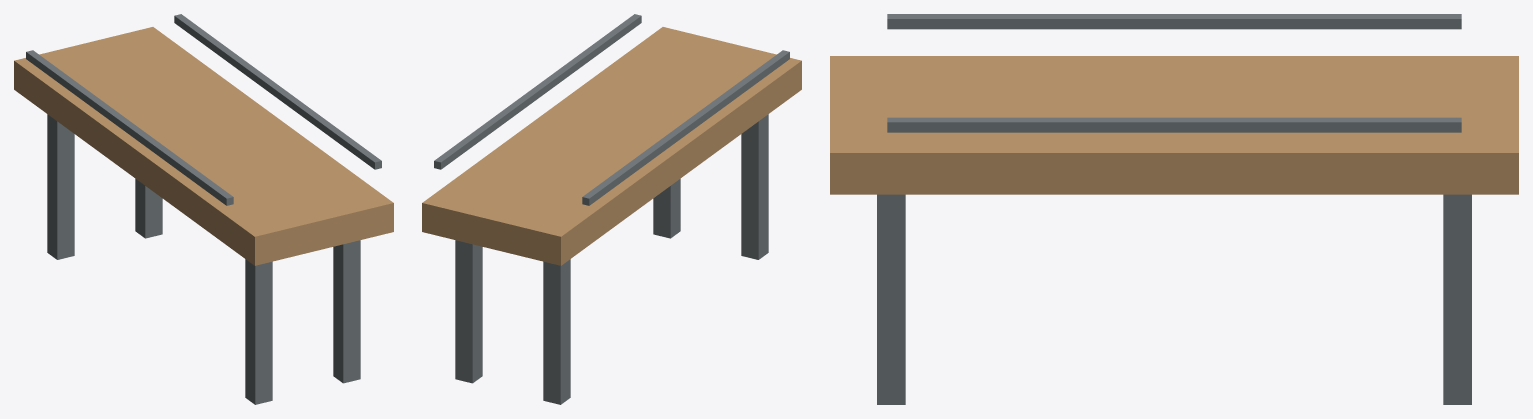
File: ambulance_stretcher.glb
3 renders of one model, left to right at view 1: azimuth 30°, elevation 25°; view 2: azimuth 150°, elevation 25°; view 3: azimuth 270°, elevation 25°, orthographic. The views are drawn at different scales.
Parts seen in each view (by area): view 1: body; view 2: body; view 3: body.
Part boxes in pixels (bbox=[...]): body: bbox=[14, 14, 393, 404]; body: bbox=[422, 14, 801, 404]; body: bbox=[830, 14, 1518, 404].
Bounding box in the file's own units: 0.67 × 0.865 × 1.8.
